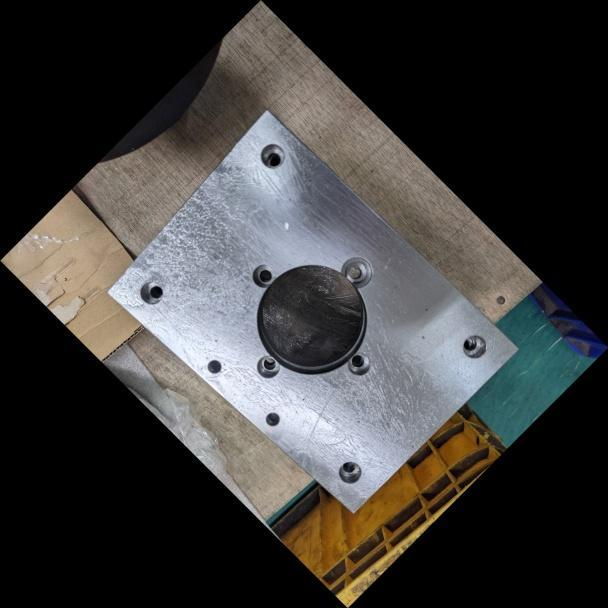hole: (329, 244, 385, 299), (450, 323, 499, 371), (127, 269, 173, 315), (244, 345, 290, 391), (239, 254, 285, 299), (335, 338, 380, 383), (250, 134, 294, 178), (329, 452, 370, 494), (196, 350, 230, 383), (257, 404, 288, 435)
